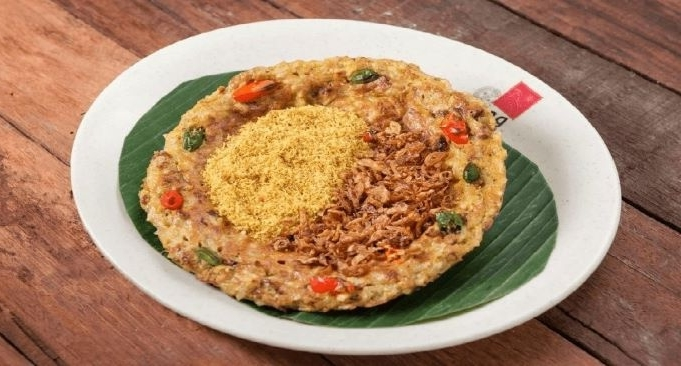kerak_telor: (140, 59, 507, 312)
